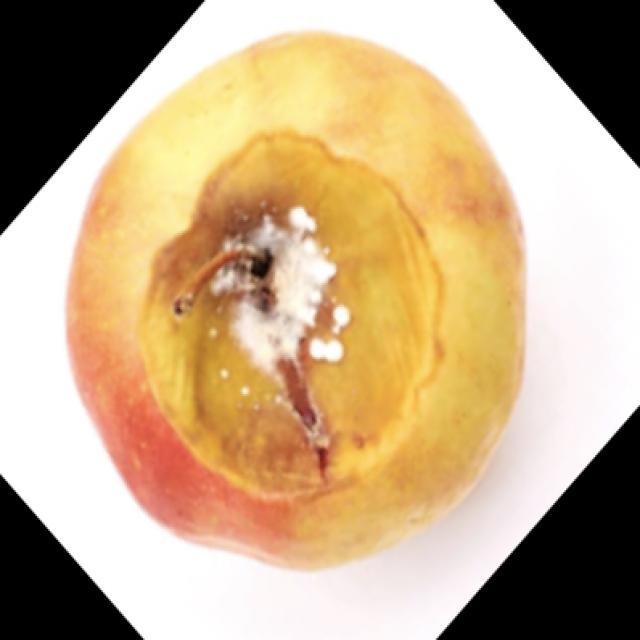Rotten: (93, 30, 532, 553)
